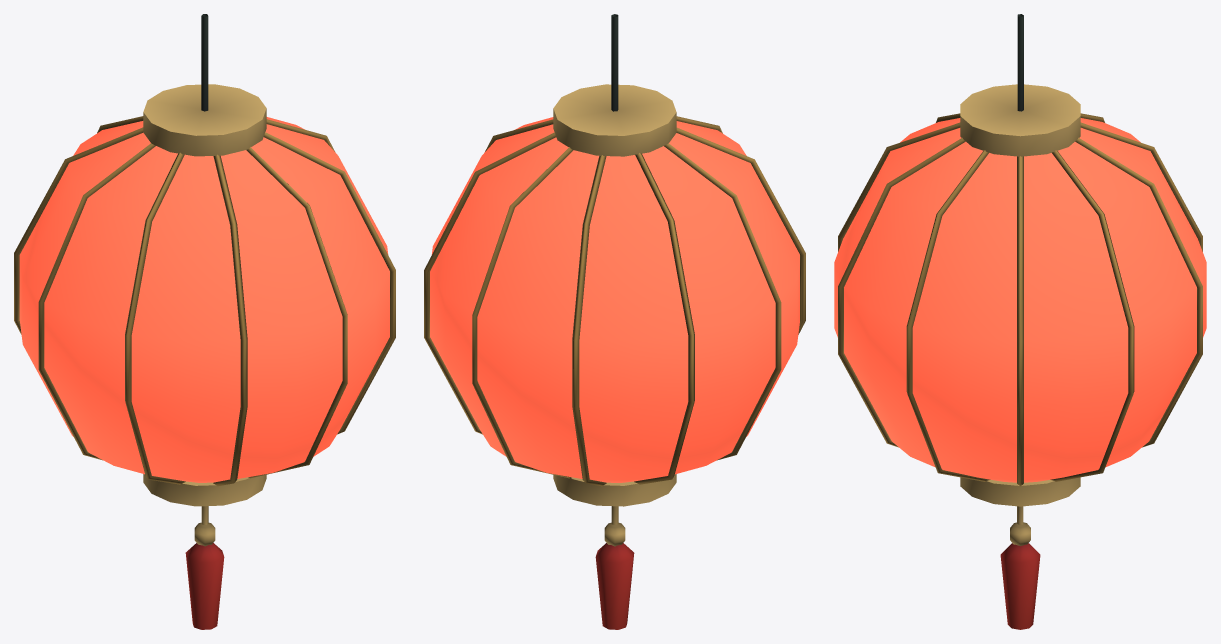
The model's file is den-long.glb.
3 views of the same model, side by side, from view 1: azimuth 30°, elevation 25°; view 2: azimuth 150°, elevation 25°; view 3: azimuth 270°, elevation 25° (orthographic).
Parts seen in each view (by area): view 1: den-long; view 2: den-long; view 3: den-long.
Part boxes in pixels (x1=…): den-long: x1=14, y1=14, x2=395, y2=629; den-long: x1=424, y1=14, x2=805, y2=629; den-long: x1=834, y1=14, x2=1206, y2=629.
Bounding box in the file's own units: 0.4226 × 0.74 × 0.41.
